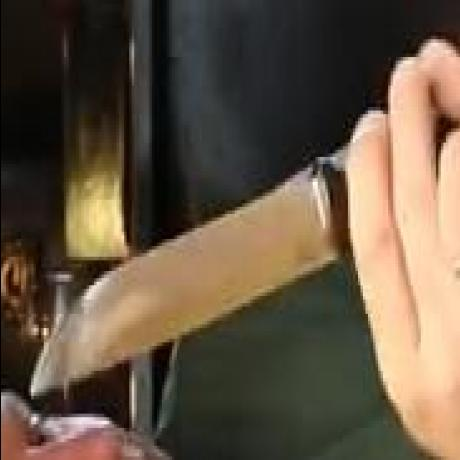weapon: (22, 154, 342, 398)
